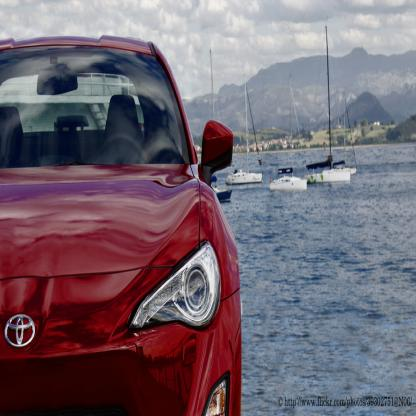Car: (1, 35, 242, 416)
